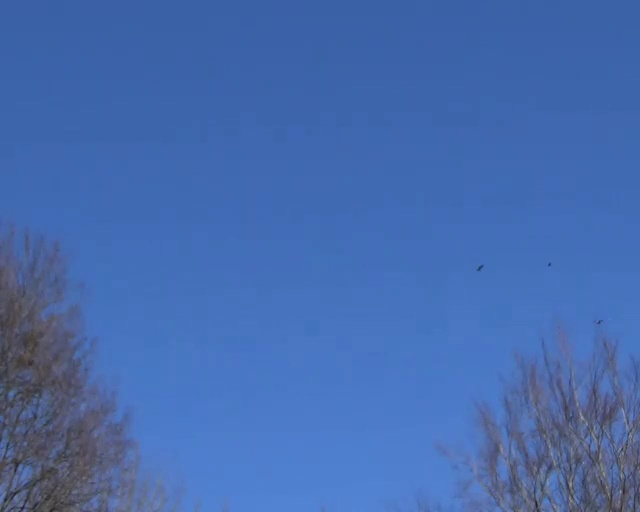BIRD: (477, 264, 485, 270)
